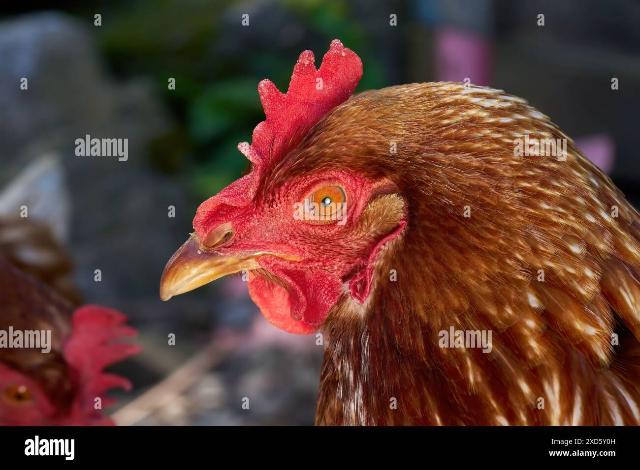Chicken: (160, 41, 640, 425), (1, 209, 143, 426)
